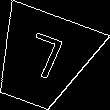L_S: (16, 30, 68, 89)
